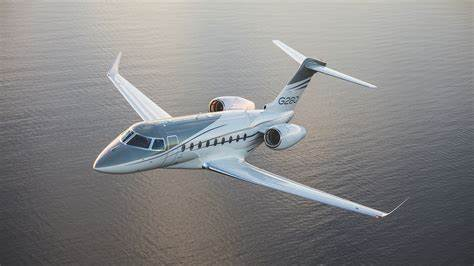Aeronef_commercial: (84, 32, 419, 227)
